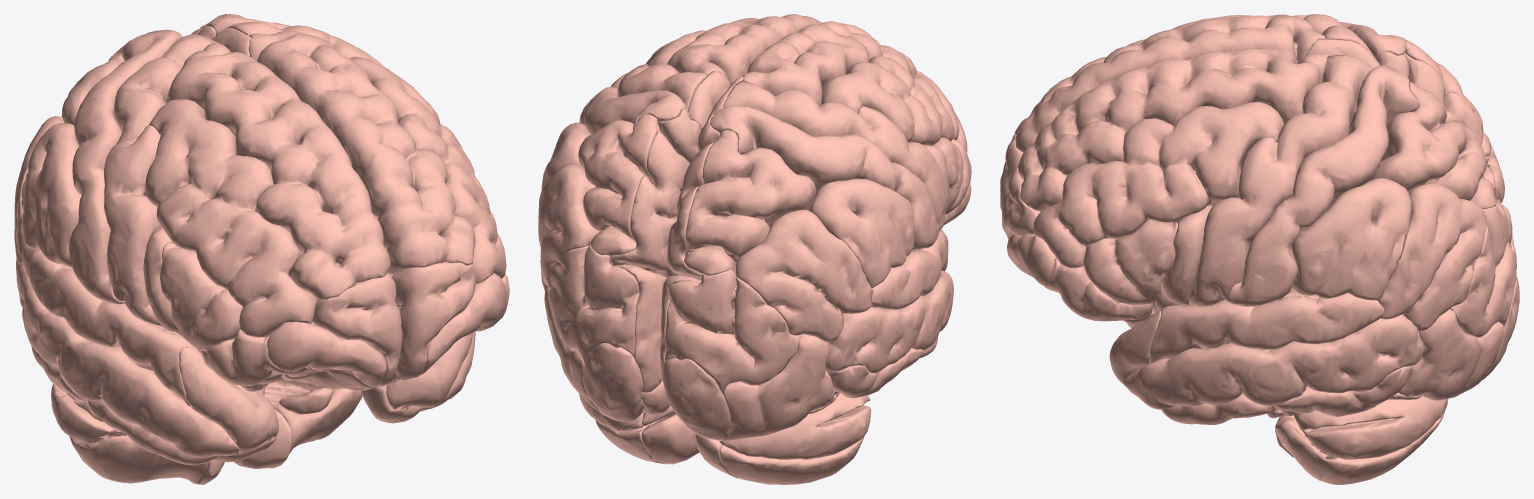
File: brain-atlas-vP6HufA9.glb
3 views of the same model, side by side, from view 1: azimuth 30°, elevation 25°; view 2: azimuth 150°, elevation 25°; view 3: azimuth 270°, elevation 25° (orthographic). The views are drawn at different scales.
Parts seen in each view (by area): view 1: region:prefrontal:L, region:prefrontal:R, region:temporalCortex:L, region:associationCortex:L, region:motorCortex:L, region:parietalCortex:L, region:cerebellum:L, region:cerebellum:R, region:temporalCortex:R, region:associationCortex:R, region:motorCortex:R, region:parietalCortex:R; view 2: region:associationCortex:L, region:associationCortex:R, region:parietalCortex:L, region:prefrontal:L, region:temporalCortex:L, region:parietalCortex:R, region:cerebellum:L, region:motorCortex:L, region:prefrontal:R, region:cerebellum:R, region:motorCortex:R; view 3: region:prefrontal:R, region:associationCortex:R, region:temporalCortex:R, region:parietalCortex:R, region:motorCortex:R, region:prefrontal:L, region:cerebellum:R, region:associationCortex:L, region:parietalCortex:L, region:motorCortex:L.
Boxes of the visible parts, left/top/right/bottom form: region:prefrontal:L: left=143, top=43, right=402, bottom=462; region:prefrontal:R: left=248, top=30, right=509, bottom=423; region:temporalCortex:L: left=16, top=247, right=278, bottom=465; region:associationCortex:L: left=14, top=116, right=386, bottom=386; region:motorCortex:L: left=103, top=34, right=230, bottom=326; region:parietalCortex:L: left=61, top=29, right=182, bottom=304; region:cerebellum:L: left=51, top=384, right=224, bottom=484; region:cerebellum:R: left=233, top=377, right=362, bottom=468; region:temporalCortex:R: left=386, top=331, right=475, bottom=411; region:associationCortex:R: left=191, top=28, right=506, bottom=375; region:motorCortex:R: left=212, top=21, right=442, bottom=125; region:parietalCortex:R: left=198, top=14, right=389, bottom=70; region:associationCortex:L: left=660, top=142, right=914, bottom=440; region:associationCortex:R: left=538, top=122, right=689, bottom=421; region:parietalCortex:L: left=684, top=105, right=939, bottom=275; region:prefrontal:L: left=742, top=21, right=971, bottom=225; region:temporalCortex:L: left=825, top=229, right=953, bottom=398; region:parietalCortex:R: left=578, top=87, right=701, bottom=255; region:cerebellum:L: left=695, top=393, right=871, bottom=484; region:motorCortex:L: left=707, top=76, right=946, bottom=230; region:prefrontal:R: left=645, top=14, right=821, bottom=84; region:cerebellum:R: left=579, top=394, right=699, bottom=464; region:motorCortex:R: left=610, top=64, right=730, bottom=129; region:prefrontal:R: left=1002, top=48, right=1327, bottom=328; region:associationCortex:R: left=1007, top=90, right=1519, bottom=400; region:temporalCortex:R: left=1109, top=287, right=1424, bottom=424; region:parietalCortex:R: left=1224, top=65, right=1496, bottom=306; region:motorCortex:R: left=1189, top=53, right=1372, bottom=306; region:prefrontal:L: left=1000, top=14, right=1325, bottom=238; region:cerebellum:R: left=1267, top=396, right=1448, bottom=484; region:associationCortex:L: left=1404, top=53, right=1516, bottom=275; region:parietalCortex:L: left=1340, top=22, right=1491, bottom=156; region:motorCortex:L: left=1292, top=14, right=1380, bottom=68.
Size of the model in its own units: 0.1364 by 0.1457 by 0.167.
